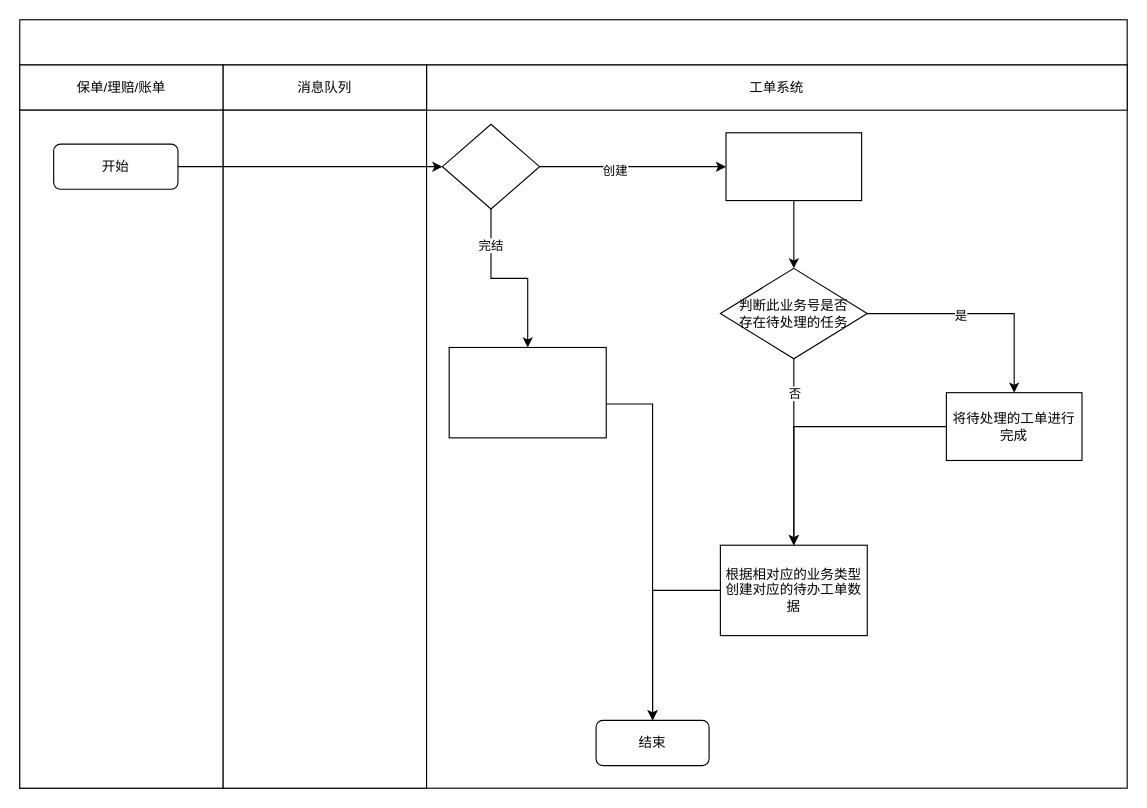
Image size: 1147x808. Some labels were removed from this diagram. The centre of each missing label's shape, as x and y in pixels:
判断工单类型: pixel 490 166
工单系统工单创建更新流程: pixel 573 42
根据业务号和工单号更新工单为已完成: pixel 527 392
获取业务类型， 业务号: pixel 793 166
